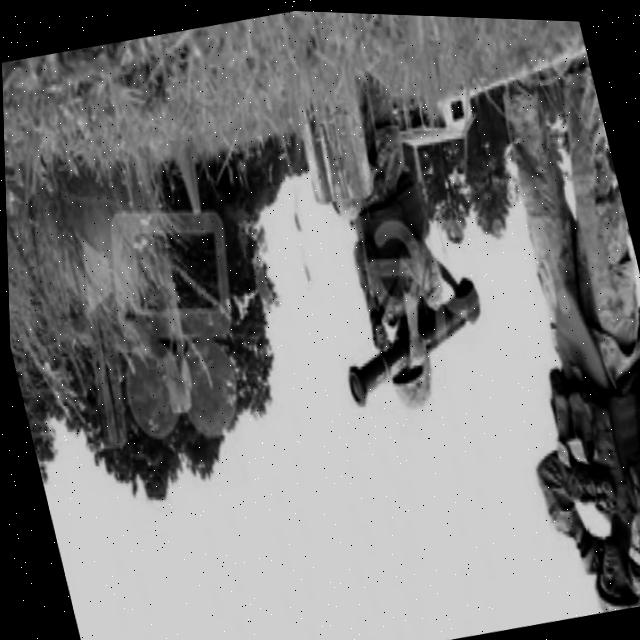rocket: (313, 235, 508, 436)
